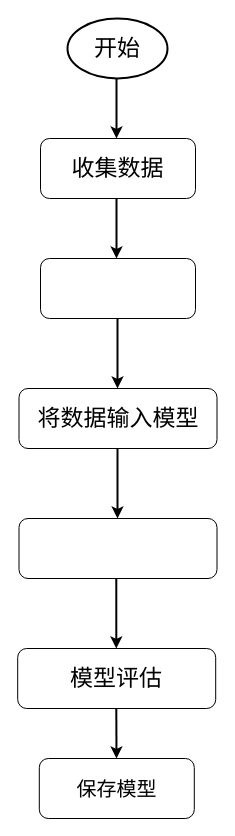
Image size: 235x836. Some labels were removed from this diagram. Each missing label, with the box of its shape:
数据预处理: (40, 258, 196, 318)
模型训练: (18, 518, 217, 578)
